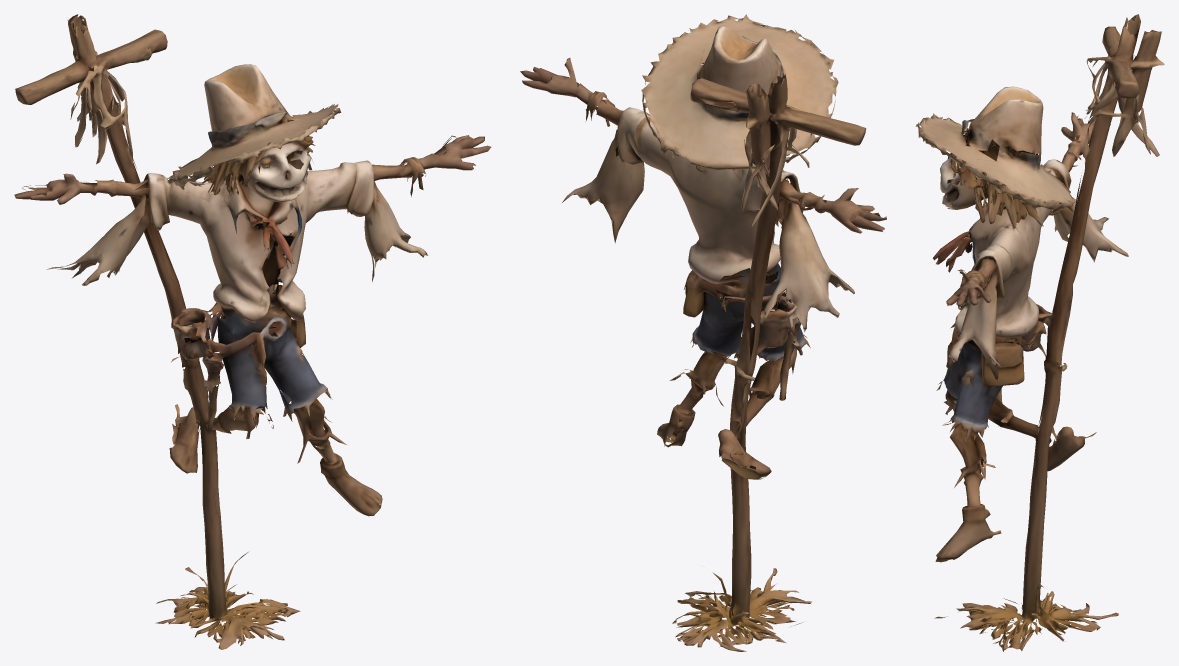
Rendered from prop_scarecrow.glb.
3 views of the same model, side by side, from view 1: azimuth 30°, elevation 25°; view 2: azimuth 150°, elevation 25°; view 3: azimuth 270°, elevation 25° (orthographic). The views are drawn at different scales.
Parts seen in each view (by area): view 1: world; view 2: world; view 3: world.
Boxes of the visible parts, x1,y1,x2,y2 form: world: (14, 14, 491, 649); world: (520, 14, 886, 651); world: (915, 14, 1164, 651).
Size of the model in its own units: 0.727 by 0.9909 by 0.3973.
Materials: 1 (1 with a texture image).
